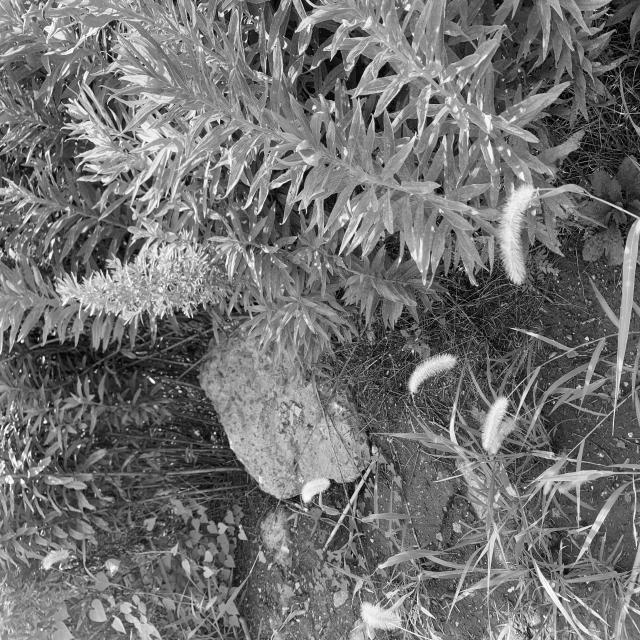Stone: (200, 329, 370, 499)
